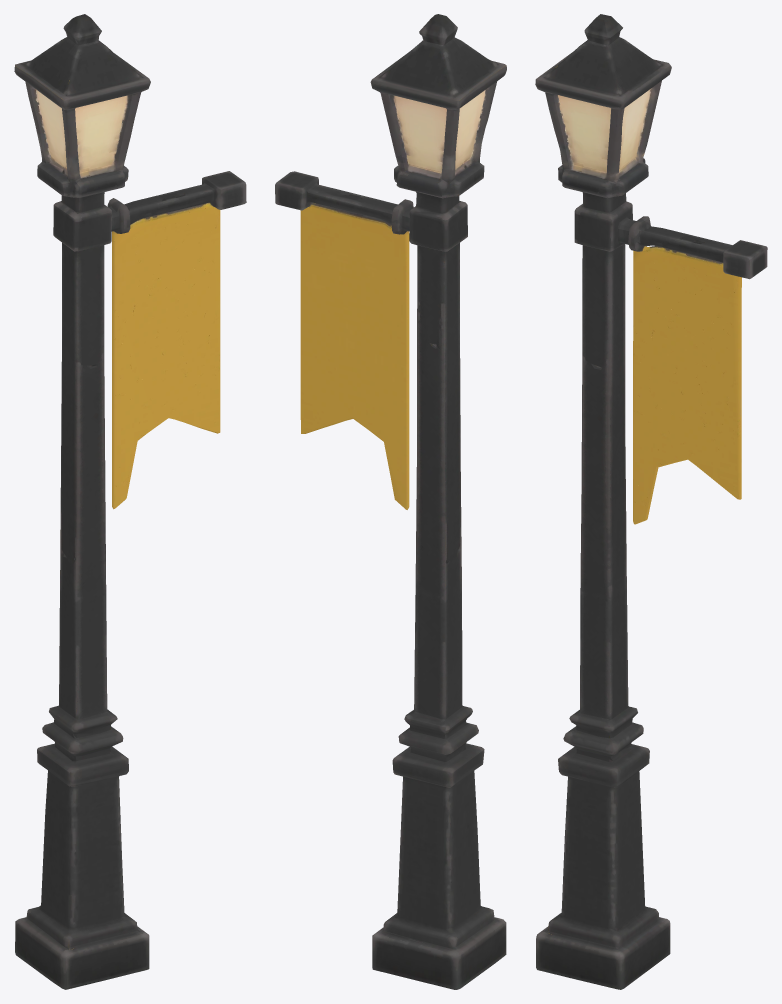
Rendered from lamp_post.glb.
3 renders of one model, left to right at view 1: azimuth 30°, elevation 25°; view 2: azimuth 150°, elevation 25°; view 3: azimuth 330°, elevation 25°, orthographic.
Parts seen in each view (by area): view 1: body, light; view 2: body, light; view 3: body, light.
Boxes of the visible parts, x1=… form: body: x1=14, y1=14, x2=246, y2=989; light: x1=35, y1=89, x2=127, y2=172; body: x1=275, y1=14, x2=506, y2=989; light: x1=393, y1=90, x2=485, y2=172; body: x1=535, y1=14, x2=767, y2=989; light: x1=558, y1=88, x2=651, y2=172.
Bounding box in the file's own units: 0.9314 × 4.2 × 0.4108.
Materials: 1 (1 with a texture image).
